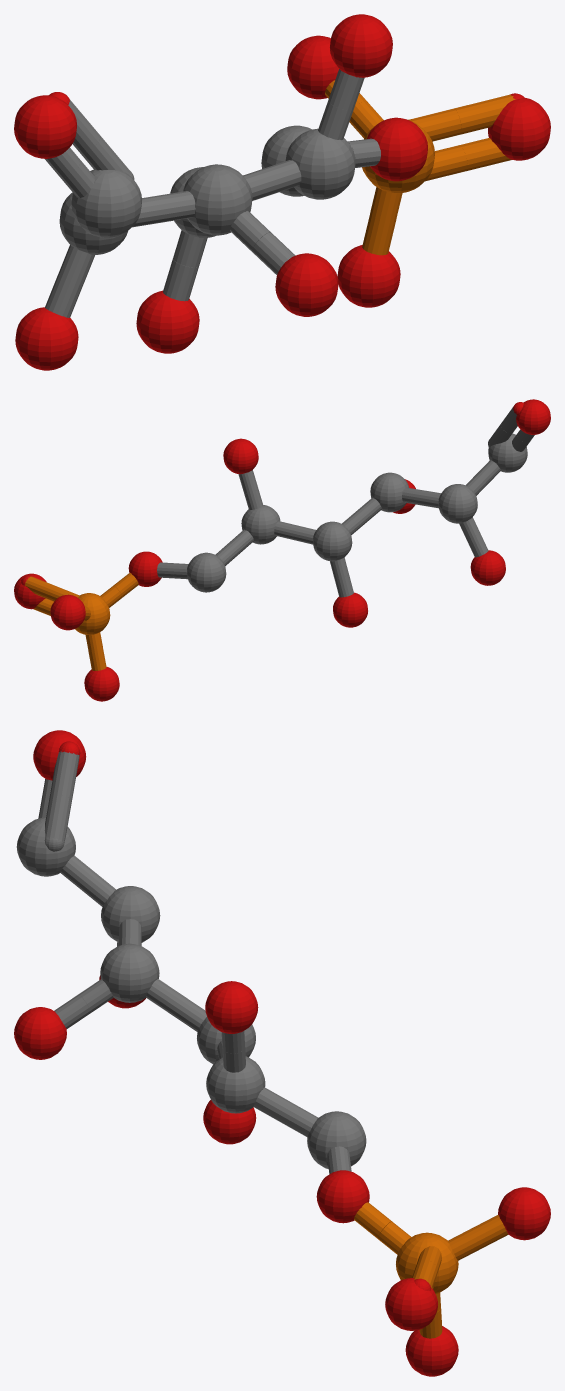
The model's file is glucose6-phosphate_wrl.obj.
The picture shows the model from 3 angles, top to bottom: view 1: azimuth 30°, elevation 25°; view 2: azimuth 150°, elevation 25°; view 3: azimuth 270°, elevation 25°; orthographic projection. The views are drawn at different scales.
Visible parts, largest first — view 1: _0Sphere, _0Sphere.004__0Sphere, _0Sphere.002__0Sphere, _2Sphere.002__2Sphere, _2Sphere, _2Sphere.004__2Sphere, _2Sphere.001__2Sphere, _2Sphere.003__2Sphere, _2Sphere.008__2Sphere, _2Sphere.006__2Sphere, _2Sphere.005__2Sphere, _2Sphere.007__2Sphere (+26 smaller); view 2: _0Sphere.005__0Sphere, _0Sphere.003__0Sphere, _0Sphere.001__0Sphere, _0Sphere.002__0Sphere, _0Sphere.004__0Sphere, _2Sphere.007__2Sphere, _2Sphere.004__2Sphere, _2Sphere.001__2Sphere, _2Sphere, _2Sphere.008__2Sphere, _2Sphere.003__2Sphere, _4Sphere (+9 smaller); view 3: _0Sphere.002__0Sphere, _0Sphere.004__0Sphere, _0Sphere.005__0Sphere, _0Sphere.001__0Sphere, _2Sphere.004__2Sphere, _2Sphere.002__2Sphere, _2Sphere.007__2Sphere, _2Sphere.005__2Sphere, _0Sphere, _2Sphere.006__2Sphere, _2Sphere.008__2Sphere, _4Sphere (+8 smaller).
Boxes of the visible parts, left/top/right/bottom form: _0Sphere: left=71, top=169, right=141, bottom=237; _0Sphere.004__0Sphere: left=285, top=128, right=355, bottom=199; _0Sphere.002__0Sphere: left=183, top=164, right=252, bottom=235; _2Sphere.002__2Sphere: left=275, top=253, right=338, bottom=316; _2Sphere: left=14, top=95, right=76, bottom=158; _2Sphere.004__2Sphere: left=330, top=14, right=392, bottom=77; _2Sphere.001__2Sphere: left=15, top=307, right=78, bottom=370; _2Sphere.003__2Sphere: left=136, top=290, right=199, bottom=353; _2Sphere.008__2Sphere: left=337, top=245, right=400, bottom=307; _2Sphere.006__2Sphere: left=488, top=97, right=550, bottom=160; _2Sphere.005__2Sphere: left=367, top=117, right=427, bottom=181; _2Sphere.007__2Sphere: left=287, top=35, right=339, bottom=99; _0Sphere.005__0Sphere: left=187, top=552, right=226, bottom=592; _0Sphere.003__0Sphere: left=313, top=521, right=352, bottom=561; _0Sphere.001__0Sphere: left=438, top=484, right=477, bottom=523; _0Sphere.002__0Sphere: left=370, top=472, right=408, bottom=512; _0Sphere.004__0Sphere: left=241, top=505, right=280, bottom=544; _2Sphere.007__2Sphere: left=50, top=594, right=85, bottom=630; _2Sphere.004__2Sphere: left=223, top=438, right=258, bottom=474; _2Sphere.001__2Sphere: left=470, top=550, right=505, bottom=585; _2Sphere: left=516, top=399, right=550, bottom=434; _2Sphere.008__2Sphere: left=84, top=667, right=119, bottom=701; _2Sphere.003__2Sphere: left=333, top=592, right=367, bottom=627; _4Sphere: left=75, top=593, right=110, bottom=634; _0Sphere.002__0Sphere: left=100, top=943, right=159, bottom=1002; _0Sphere.004__0Sphere: left=206, top=1056, right=265, bottom=1113; _0Sphere.005__0Sphere: left=307, top=1111, right=366, bottom=1168; _0Sphere.001__0Sphere: left=101, top=886, right=160, bottom=942; _2Sphere.004__2Sphere: left=205, top=981, right=258, bottom=1033; _2Sphere.002__2Sphere: left=14, top=1007, right=66, bottom=1059; _2Sphere.007__2Sphere: left=498, top=1187, right=550, bottom=1240; _2Sphere.005__2Sphere: left=316, top=1170, right=369, bottom=1223; _0Sphere: left=16, top=817, right=75, bottom=876; _2Sphere.006__2Sphere: left=385, top=1278, right=437, bottom=1330; _2Sphere.008__2Sphere: left=405, top=1326, right=458, bottom=1376; _4Sphere: left=396, top=1232, right=458, bottom=1293.
Bounding box in the file's own units: 9.38 × 6.1 × 7.08.
